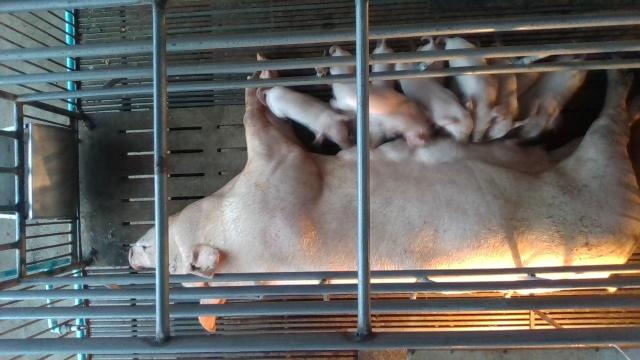piglet: (434, 35, 508, 144), (395, 63, 476, 145), (518, 52, 587, 143), (262, 85, 355, 150), (485, 42, 528, 143), (327, 45, 362, 109)
sow-sleep-lactate: (130, 53, 640, 332)
